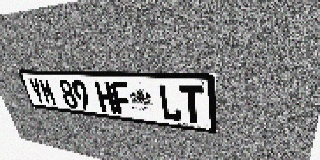8: (58, 79, 79, 109)
9: (70, 80, 92, 110)
F: (110, 82, 133, 116)
H: (94, 81, 117, 114)
L: (157, 84, 182, 122)
M: (37, 78, 58, 106)
T: (180, 85, 205, 125)
Y: (27, 78, 47, 105)
